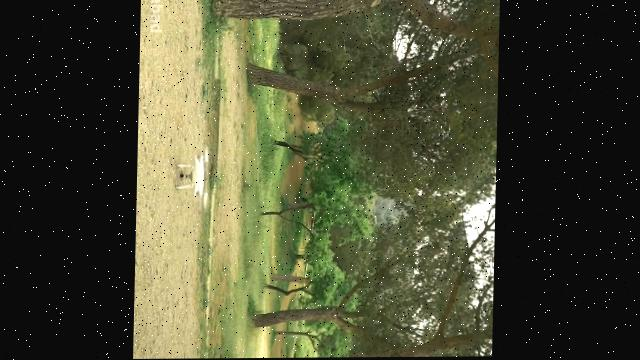drone: (175, 145, 213, 212)
